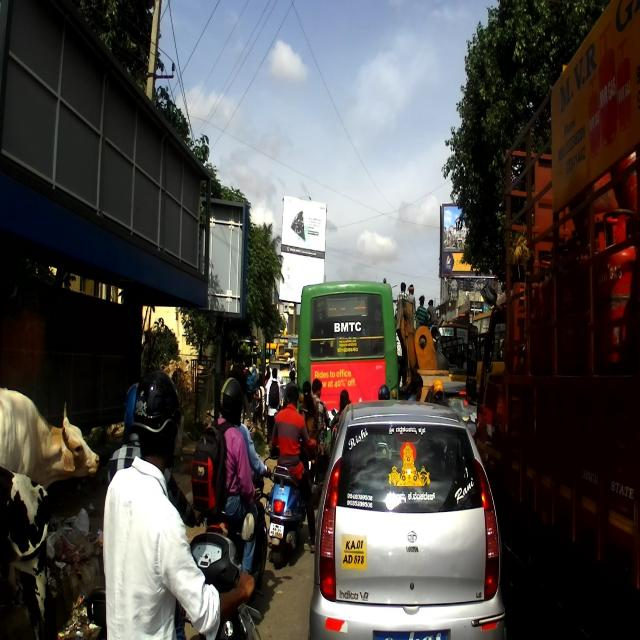bus: (297, 277, 399, 438)
car: (309, 400, 507, 640)
scooter: (173, 506, 265, 638), (265, 438, 318, 570)
truck: (476, 0, 639, 639)
